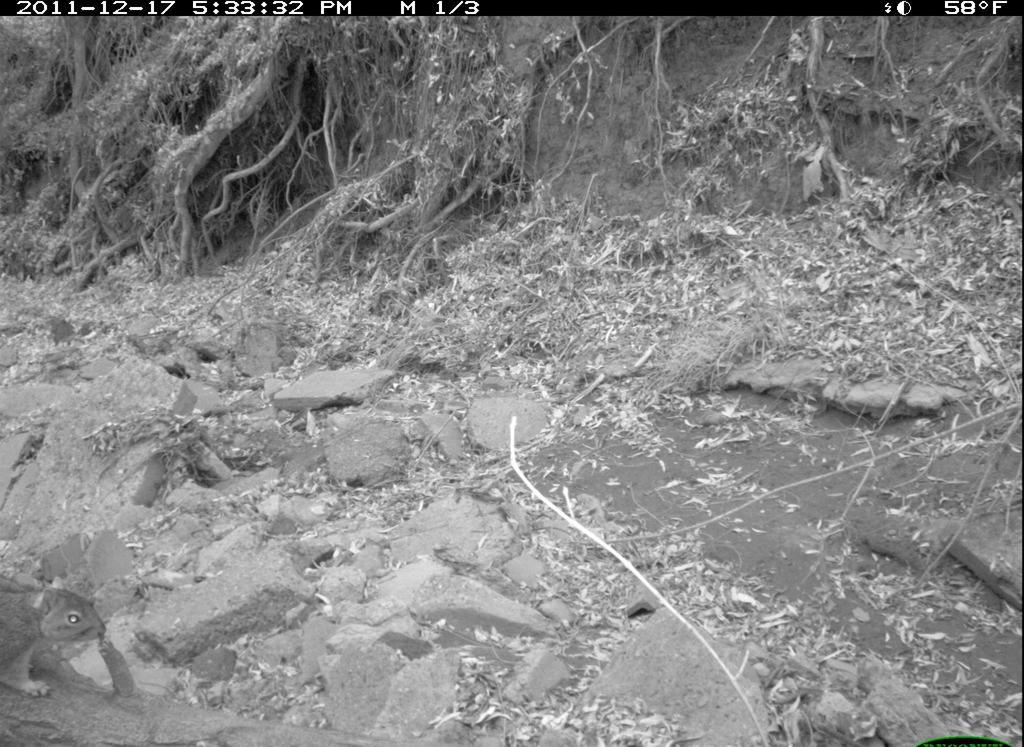squirrel: (2, 575, 108, 705)
